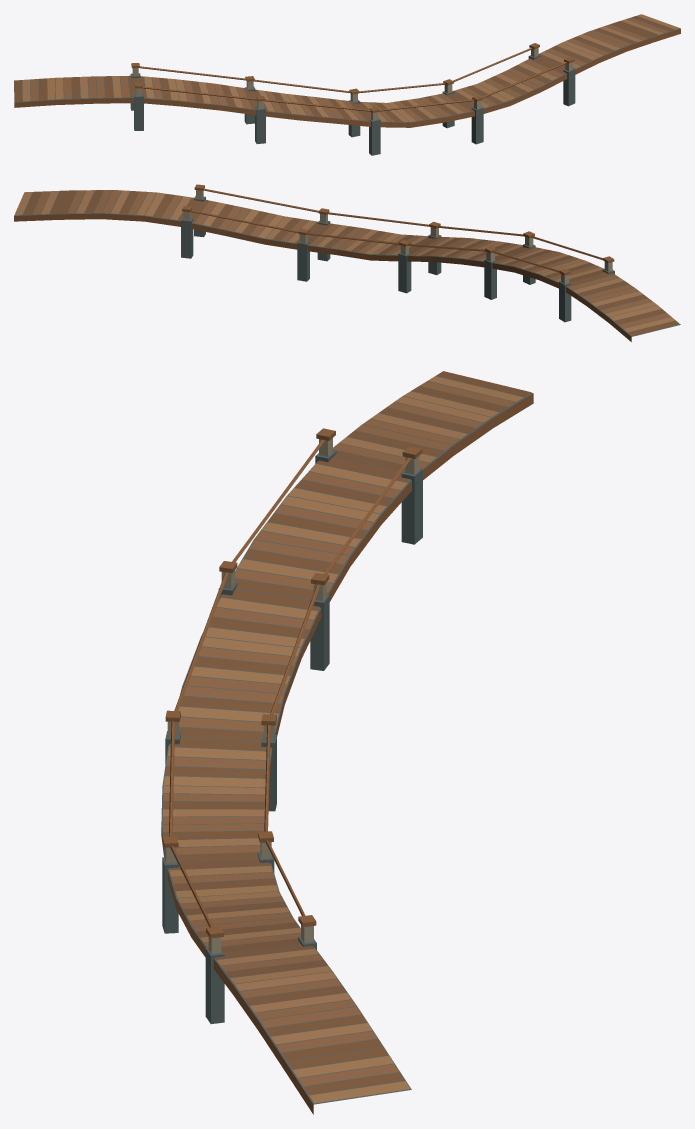
File: 2_orchard_pass_0.glb
3 renders of one model, top to bottom at view 1: azimuth 30°, elevation 25°; view 2: azimuth 150°, elevation 25°; view 3: azimuth 270°, elevation 25°, orthographic. The views are drawn at different scales.
Visible parts, largest first — view 1: Detail_9_14, Deck_9_14-col, Detail_8_14, Deck_8_14-col; view 2: Detail_9_14, Deck_9_14-col, Detail_8_14, Deck_8_14-col; view 3: Detail_9_14, Deck_9_14-col, Detail_8_14, Deck_8_14-col.
Boxes of the visible parts, x1,y1,x2,y2 form: Detail_9_14: [71, 14, 680, 155]; Deck_9_14-col: [96, 16, 680, 122]; Detail_8_14: [14, 77, 134, 107]; Deck_8_14-col: [14, 76, 97, 102]; Detail_9_14: [14, 184, 647, 322]; Deck_9_14-col: [14, 190, 633, 300]; Detail_8_14: [586, 298, 679, 341]; Deck_8_14-col: [586, 291, 680, 336]; Detail_9_14: [161, 407, 475, 1114]; Deck_9_14-col: [161, 425, 452, 1104]; Detail_8_14: [387, 371, 533, 455]; Deck_8_14-col: [362, 376, 532, 445].
Bounding box in the file's own units: 35.04 × 5.38 × 8.9.
